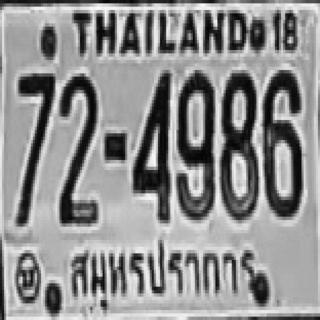N02: (58, 72, 96, 225)
N04: (131, 67, 168, 220)
N06: (260, 68, 302, 215)
N07: (14, 70, 53, 223)
N08: (220, 70, 256, 217)
N09: (174, 70, 213, 217)
P57: (64, 237, 259, 304)
